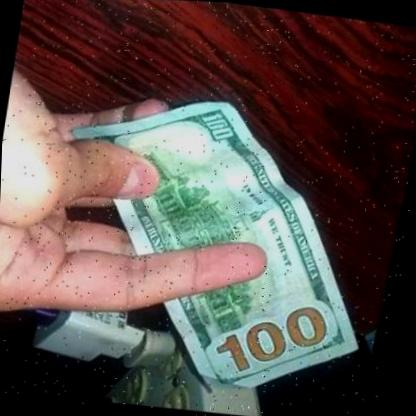one_hundred-back: (0, 68, 415, 416)
